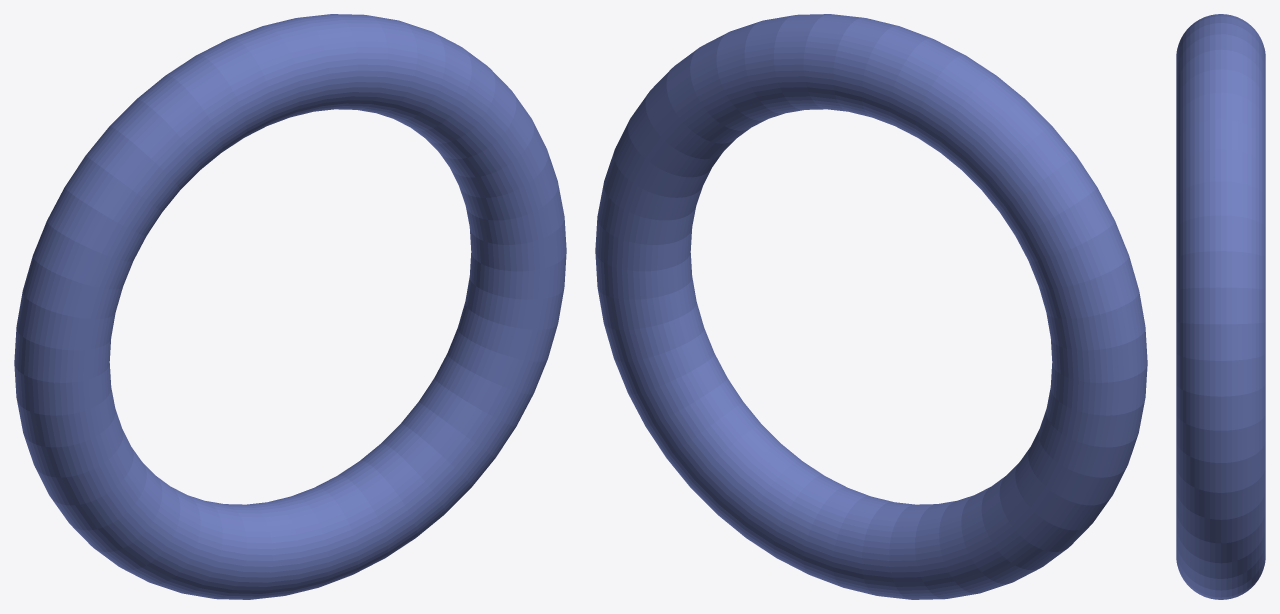
3 renders of one model, left to right at view 1: azimuth 30°, elevation 25°; view 2: azimuth 150°, elevation 25°; view 3: azimuth 270°, elevation 25°, orthographic. The views are drawn at different scales.
Parts seen in each view (by area): view 1: world; view 2: world; view 3: world.
Part boxes in pixels (x1,y1,x2,y2): world: (14, 14, 566, 599); world: (595, 14, 1147, 599); world: (1176, 14, 1265, 599).
Size of the model in its own units: 16.53 by 16.5 by 2.53.
